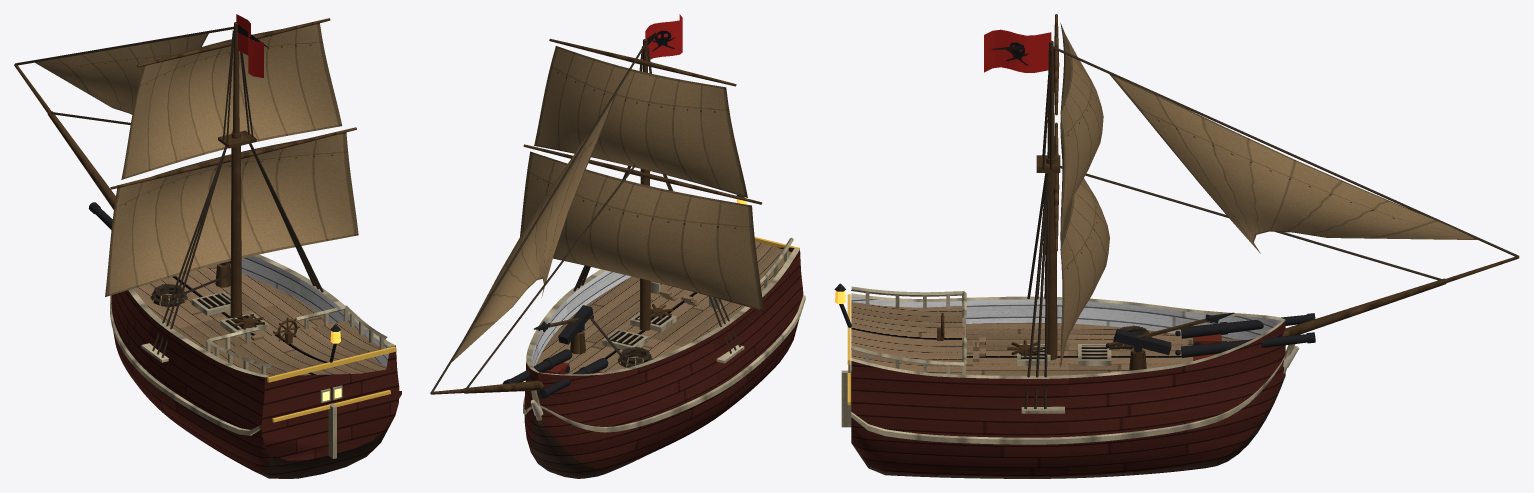
The model's file is brethren_chaser.glb.
3 views of the same model, side by side, from view 1: azimuth 30°, elevation 25°; view 2: azimuth 150°, elevation 25°; view 3: azimuth 270°, elevation 25° (orthographic). The views are drawn at different scales.
Visible parts, largest first — view 1: Hull, Sail0_0, Sail0_1, Rigging, Jib, Flag; view 2: Hull, Sail0_0, Sail0_1, Jib, Rigging, Guns0, Flag; view 3: Hull, Jib, Rigging, Sail0_0, Sail0_1, Guns0, Flag.
Boxes of the visible parts, left/top/right/bottom form: Hull: left=110, top=254, right=401, bottom=478; Sail0_0: left=105, top=132, right=358, bottom=296; Sail0_1: left=121, top=23, right=342, bottom=179; Rigging: left=14, top=18, right=356, bottom=357; Jib: left=35, top=33, right=208, bottom=114; Flag: left=236, top=14, right=263, bottom=77; Hull: left=523, top=195, right=805, bottom=478; Sail0_0: left=520, top=151, right=763, bottom=311; Sail0_1: left=534, top=46, right=747, bottom=197; Jib: left=452, top=93, right=616, bottom=361; Rigging: left=430, top=32, right=762, bottom=394; Guns0: left=502, top=349, right=608, bottom=398; Flag: left=645, top=14, right=682, bottom=60; Hull: left=834, top=283, right=1299, bottom=478; Jib: left=1109, top=74, right=1477, bottom=253; Rigging: left=990, top=14, right=1519, bottom=409; Sail0_0: left=1060, top=131, right=1109, bottom=367; Sail0_1: left=1060, top=23, right=1103, bottom=239; Guns0: left=1175, top=313, right=1315, bottom=360; Flag: left=984, top=29, right=1051, bottom=72.
Bounding box in the file's own units: 1.18 × 1.79 × 2.6.
Materials: 17 (8 with a texture image).
